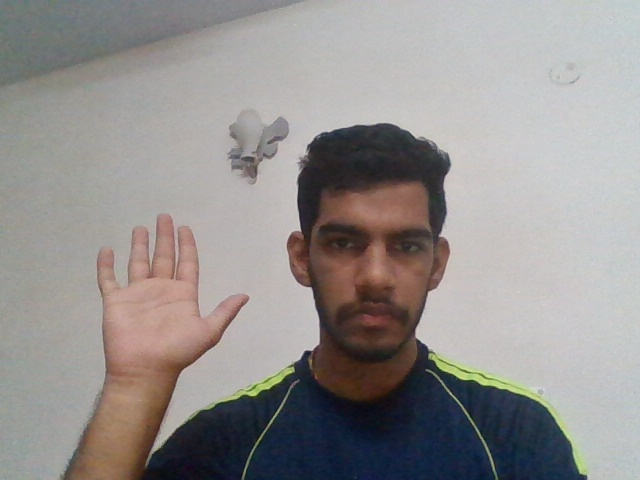hi: (55, 205, 267, 379)
